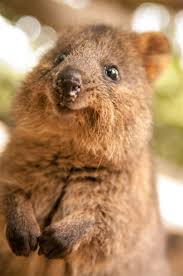quokka: (0, 23, 174, 276)
